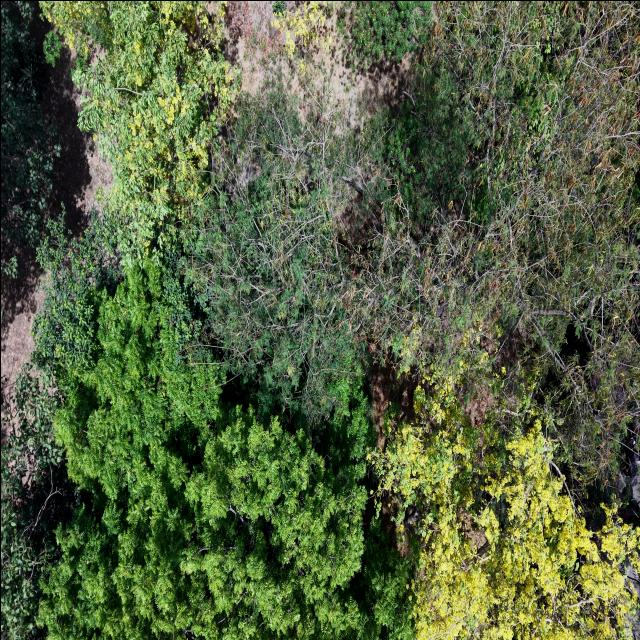DRY_AREA: (1, 249, 72, 633), (227, 1, 415, 135), (225, 1, 413, 132), (225, 1, 411, 128), (226, 1, 409, 129), (228, 1, 410, 128), (227, 1, 407, 128), (235, 39, 411, 131), (42, 49, 112, 234), (43, 49, 112, 234), (1, 247, 46, 445), (43, 49, 91, 233), (1, 249, 44, 444), (1, 249, 43, 384), (370, 350, 417, 449), (370, 351, 416, 450)
VEGETATION_TREE: (1, 1, 639, 639), (185, 5, 638, 480), (374, 4, 639, 638), (38, 262, 408, 639), (362, 4, 639, 482), (372, 362, 639, 639), (185, 86, 360, 417), (1, 218, 122, 639), (42, 1, 235, 256), (1, 372, 74, 639), (31, 211, 122, 384), (1, 1, 58, 275), (340, 1, 433, 67)
